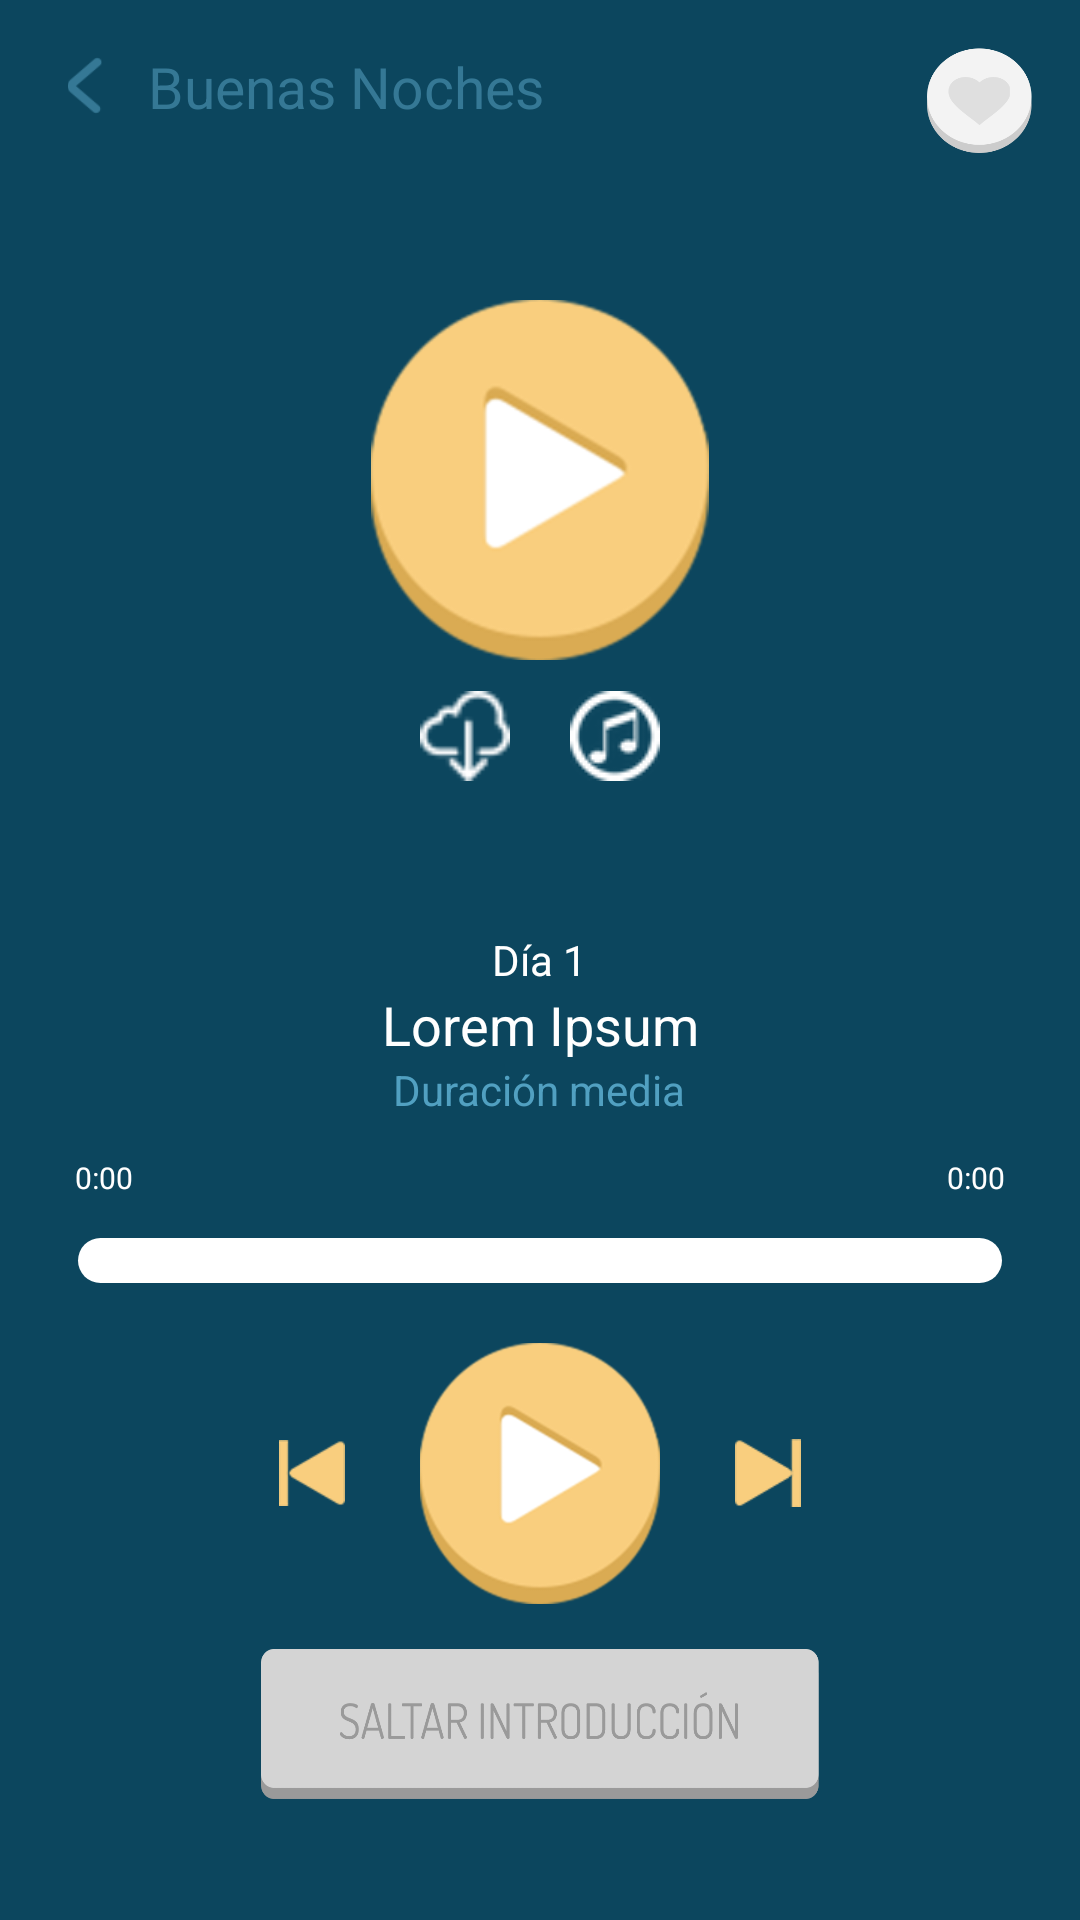

Screen size 1080 × 1920. Icon name, then its center in pixels as (x=x, y=y):
atras: (x=84, y=85)
download: (x=465, y=736)
music: (x=615, y=736)
